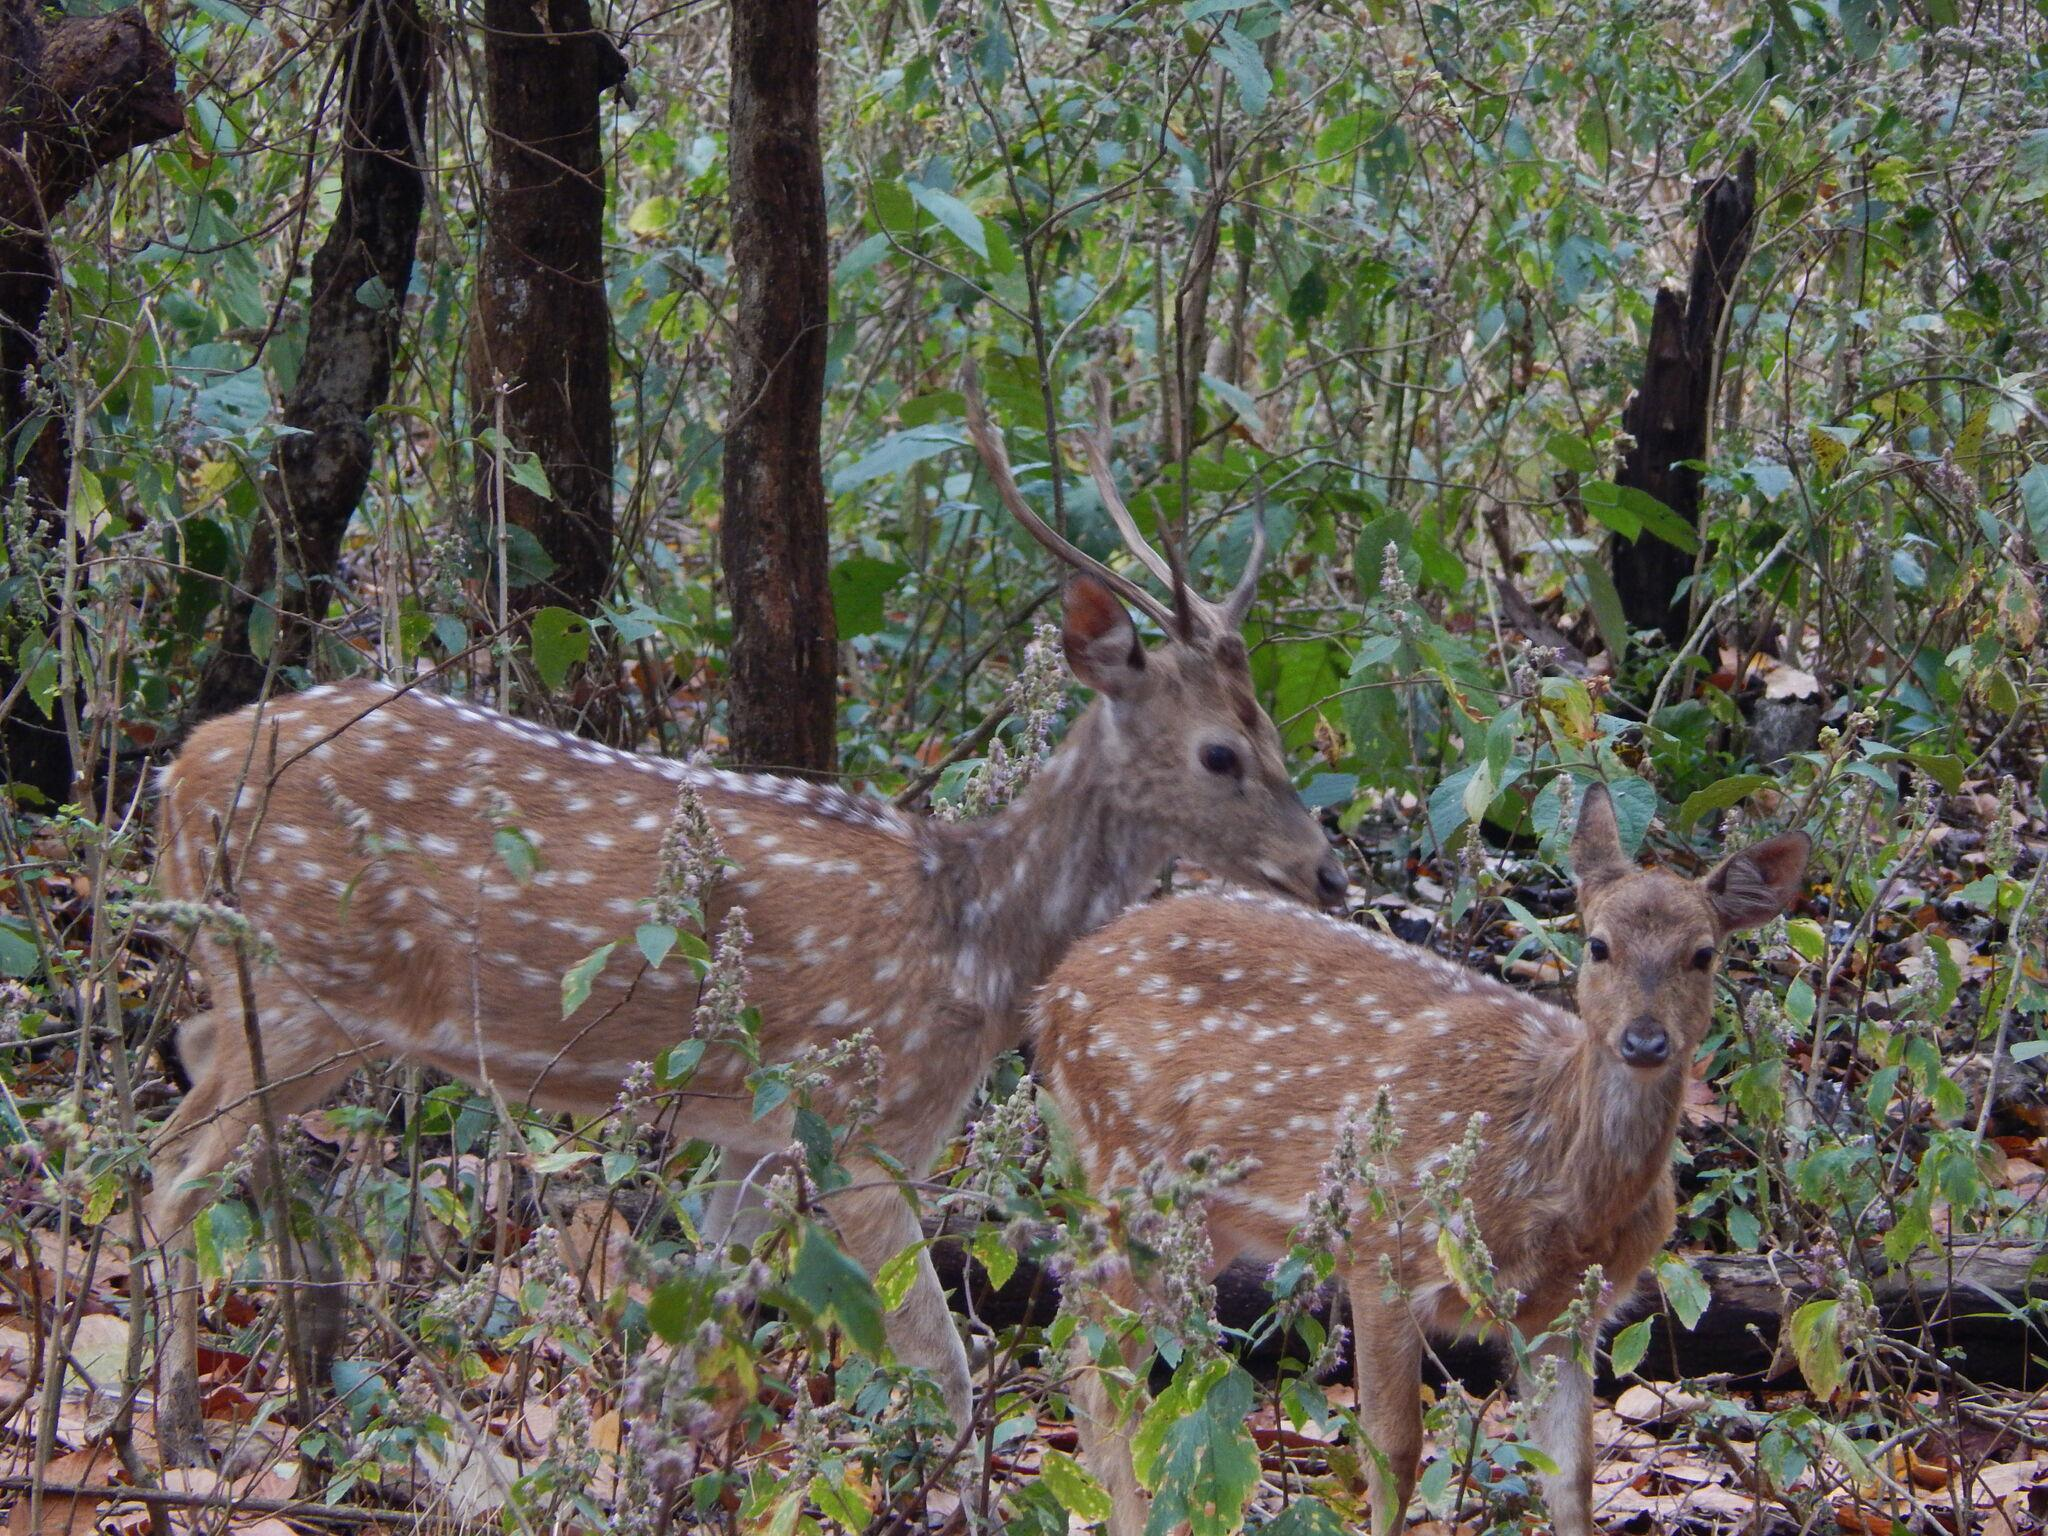Deer: (152, 358, 1345, 1434), (1034, 783, 1808, 1534)
